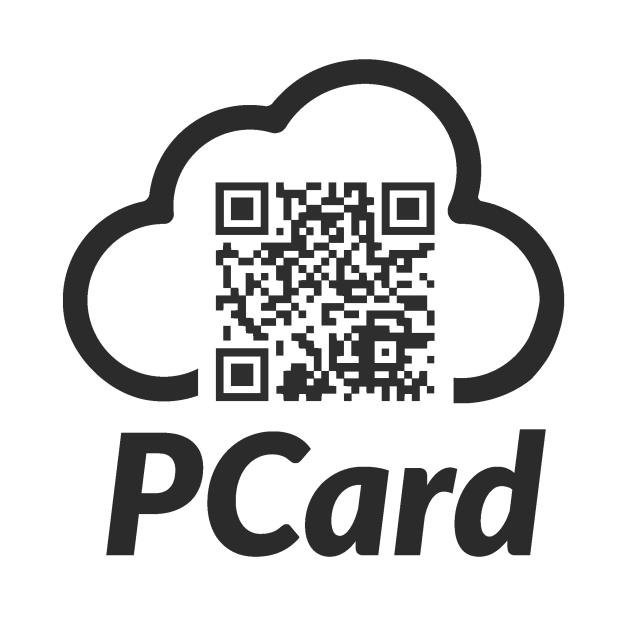QR-codes: (211, 176, 444, 407)
